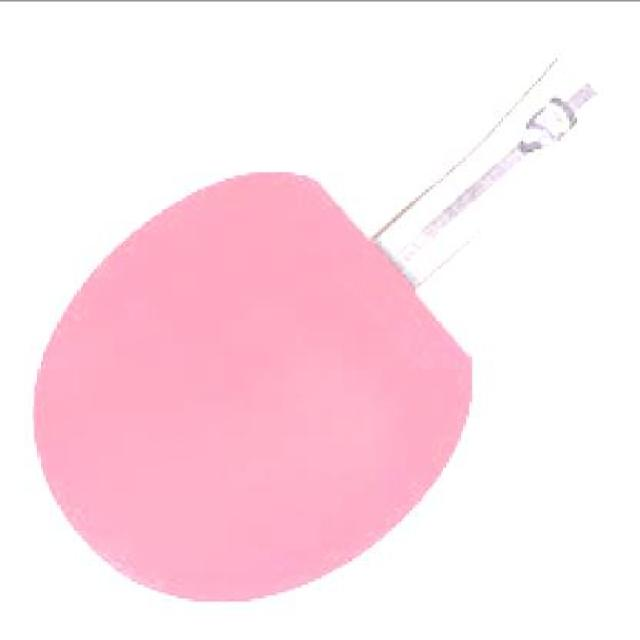table_tennis_racket: (24, 157, 470, 610)
